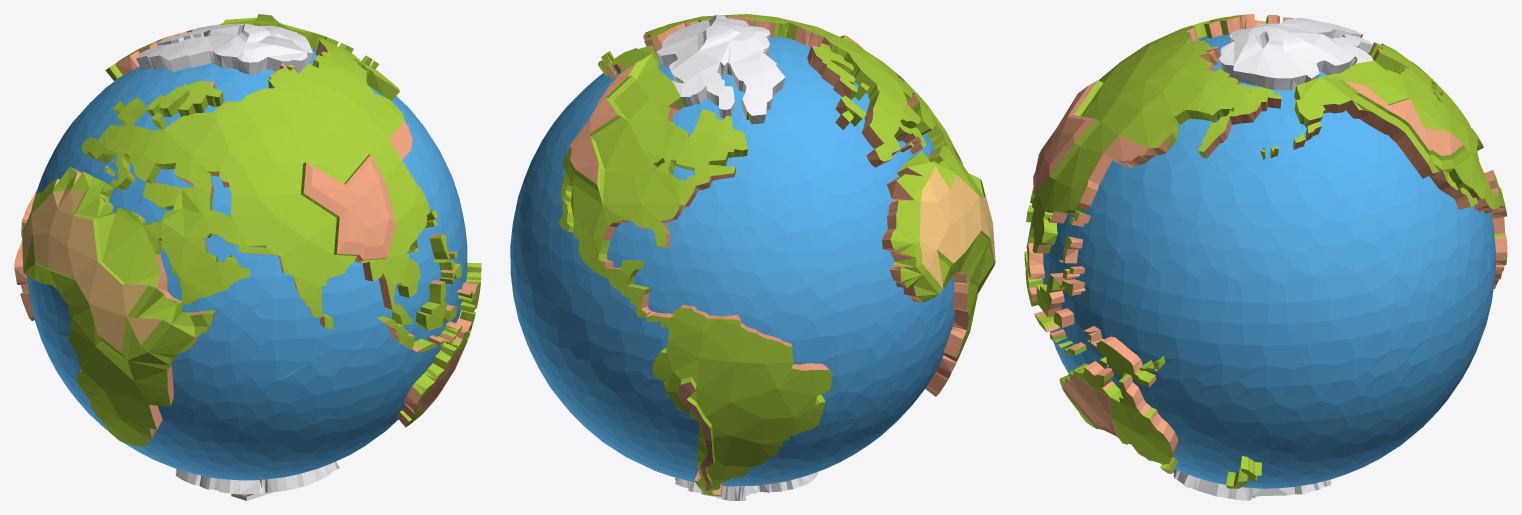
Rendered from LowPolyEarth-transformed.glb.
3 views of the same model, side by side, from view 1: azimuth 30°, elevation 25°; view 2: azimuth 150°, elevation 25°; view 3: azimuth 270°, elevation 25° (orthographic). The views are drawn at different scales.
Visible parts, largest first — view 1: Object_Planet_0; view 2: Object_Planet_0; view 3: Object_Planet_0.
Part boxes in pixels (left/top/right/bottom): Object_Planet_0: left=14, top=14, right=481, bottom=500; Object_Planet_0: left=510, top=14, right=995, bottom=500; Object_Planet_0: left=1024, top=14, right=1507, bottom=500.
Size of the model in its own units: 2.09 by 2.23 by 2.09.
1 material, 1 textured.
